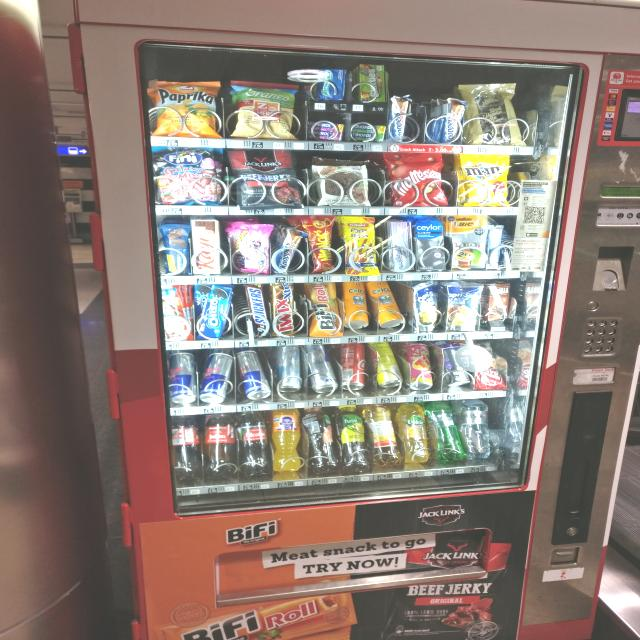airwaves_menthoneucalyptus_riegel_14_1_50173167: (320, 69, 348, 102)
berger_schoggitoertli____: (310, 159, 372, 208)
bifi_roll__50__4251097402635: (304, 280, 345, 337)
bueno___43__4008400320328: (160, 282, 198, 340)
c-swiss_dosenabisicetea__33__9120025930135: (365, 278, 406, 328), (342, 279, 370, 332)
caprisun_multivitamin__20__4000177605004: (447, 280, 482, 330), (412, 280, 444, 332)
coke__dose_33__54491472: (338, 342, 367, 388)
coke__flasche_50__54491472: (170, 414, 204, 480), (205, 412, 240, 476)
coke_zero_flasche_50__5449000131836: (235, 413, 273, 476)
comella_schokodrink__33__7613100037253: (488, 284, 511, 323)
fanta___50__40822938: (271, 408, 303, 471)
fini_galaxymix_packung_100_1_8410525150364: (150, 148, 222, 208)
fini_jellykisses_packung_80_1_8410525116704: (232, 222, 271, 274)
fuse_lemon__50__5449000235947: (336, 404, 370, 471)
fuse_lemon_dose_33__5449000235947: (368, 339, 403, 385)
fuse_peach__50__5449000236623: (304, 408, 338, 470)
jacklinks_beefjerkyorginal__25__4047751730219: (226, 148, 304, 208)
jlbrichard_gauffrechoko__90__5410495002079: (463, 84, 526, 142)
kagi___50__7610046000259: (188, 217, 224, 274)
knoppers_riegel____4035800488808: (272, 227, 305, 272), (389, 94, 410, 143), (444, 96, 464, 142)
lorenz_nicnacs__40__4018077798818: (301, 215, 336, 271)
malburner_partysticks__40__7610200279682: (340, 213, 386, 276)
maltesers___100__5000159023061: (385, 149, 451, 208)
mnms_gelb__45__40111445: (459, 153, 512, 205)
oreo___66__84100733: (197, 284, 235, 338)
powerbar_proteinplusschoko__55__4029679520028: (160, 224, 192, 275)
ramseier_schorle__50__7610057012456: (364, 402, 402, 463)
redbull___33__90162909: (234, 349, 273, 398), (199, 353, 234, 402), (304, 342, 339, 391), (168, 352, 195, 403)
redbull_light__33__90162800: (276, 343, 302, 391)
skittles_sour_riegel_51_1_: (357, 62, 387, 104)
snickers___50__5000159461122: (240, 282, 275, 338)
stimorol_spearmint_riegel_14_1_: (348, 120, 384, 142)
stimorol_wildcherry_riegel_14_1_57060330: (305, 119, 344, 142)
tiki_himbeerbrause_dose_33_1_: (406, 342, 436, 388)
twix___50__5000159459228: (269, 282, 299, 338)
valser_classic__50__76404160: (427, 400, 465, 459)
valser_still__50__7610335002575: (458, 398, 492, 458)
volvic_pinapple__50__305764335648: (396, 400, 430, 460)
zweifel_graneochilli__100__7610095184009: (231, 78, 301, 138)
zweifel_paprika__90__7610095013002: (152, 80, 224, 138)
